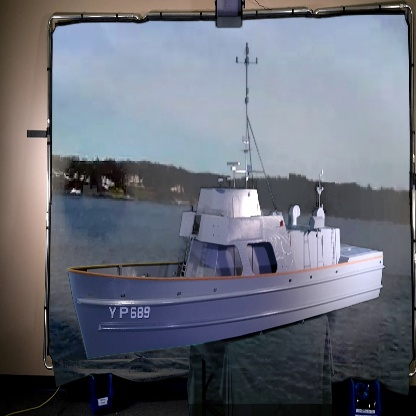YP689: (68, 45, 386, 362)
